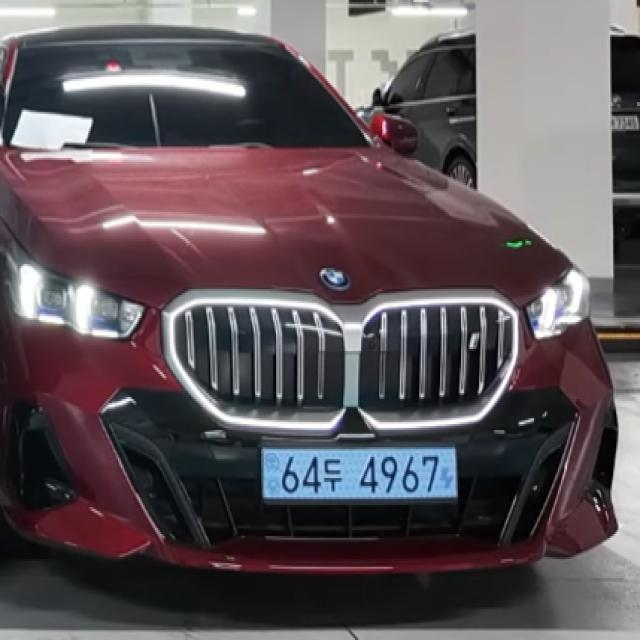car: (230, 422, 488, 521)
carev: (437, 443, 466, 505), (260, 447, 285, 504)
